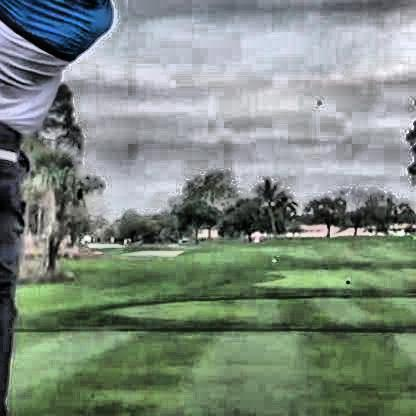golfball: (315, 98, 320, 103)
